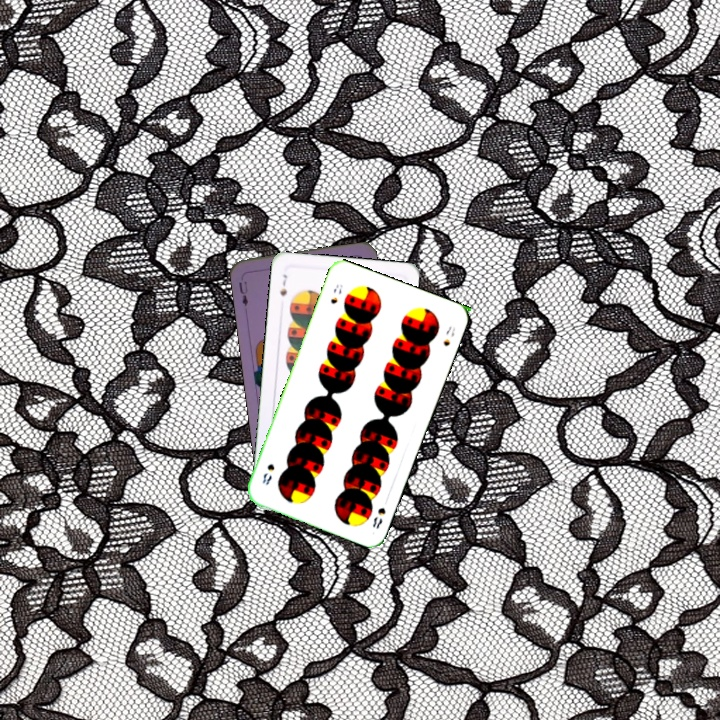EU: (235, 277, 250, 309)
S7: (276, 270, 290, 299)
S8: (368, 503, 388, 531), (326, 280, 345, 306)
